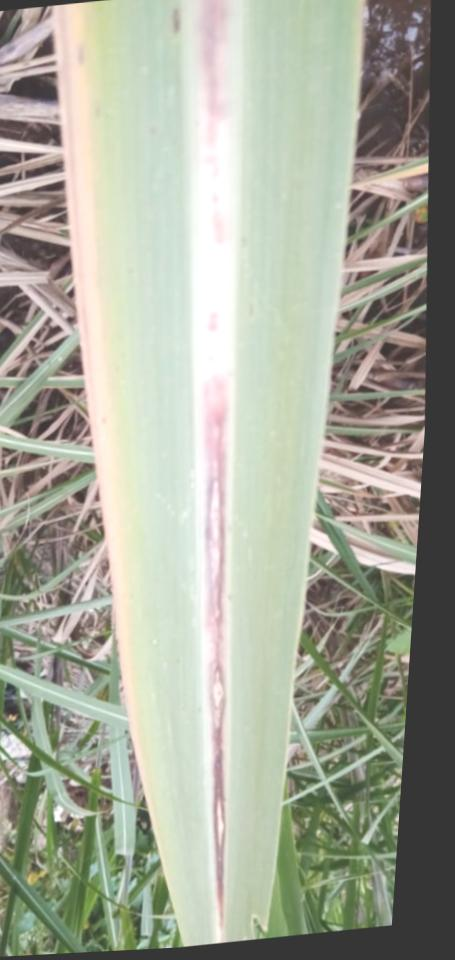RedRot: (203, 371, 227, 930), (198, 0, 229, 147), (207, 190, 225, 247), (202, 155, 220, 182), (205, 312, 219, 332), (205, 355, 215, 363)
Rust: (171, 7, 182, 35), (76, 43, 85, 68), (92, 100, 102, 119), (246, 299, 254, 318), (239, 237, 247, 249), (148, 127, 155, 135)
Yellow: (51, 4, 144, 789)
